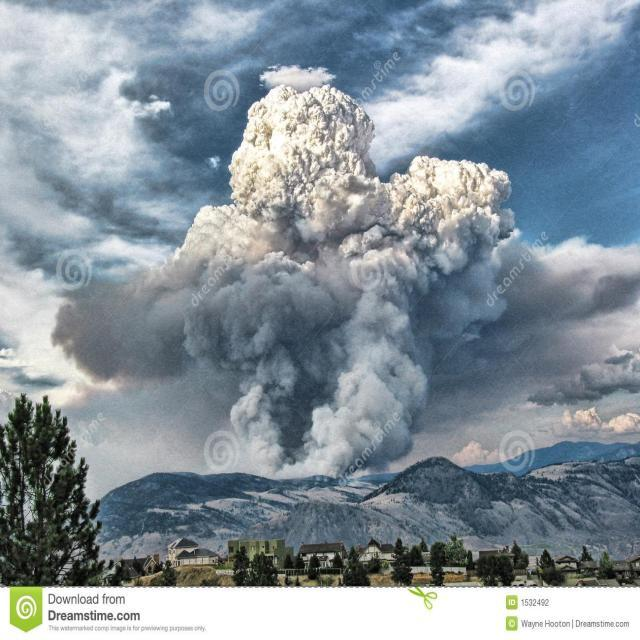Smoke: (100, 48, 550, 443)
